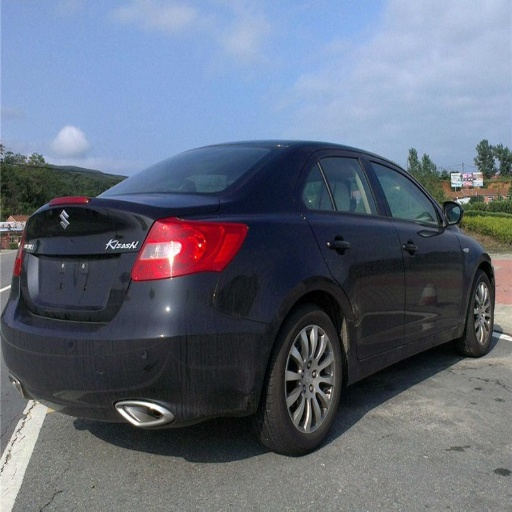back_bumper: (3, 272, 279, 424)
back_right_door: (308, 151, 405, 361)
